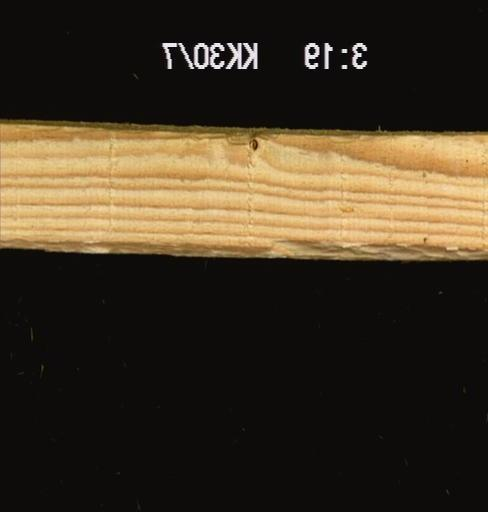dry_knot: (240, 132, 262, 154)
wave: (0, 224, 486, 265)
